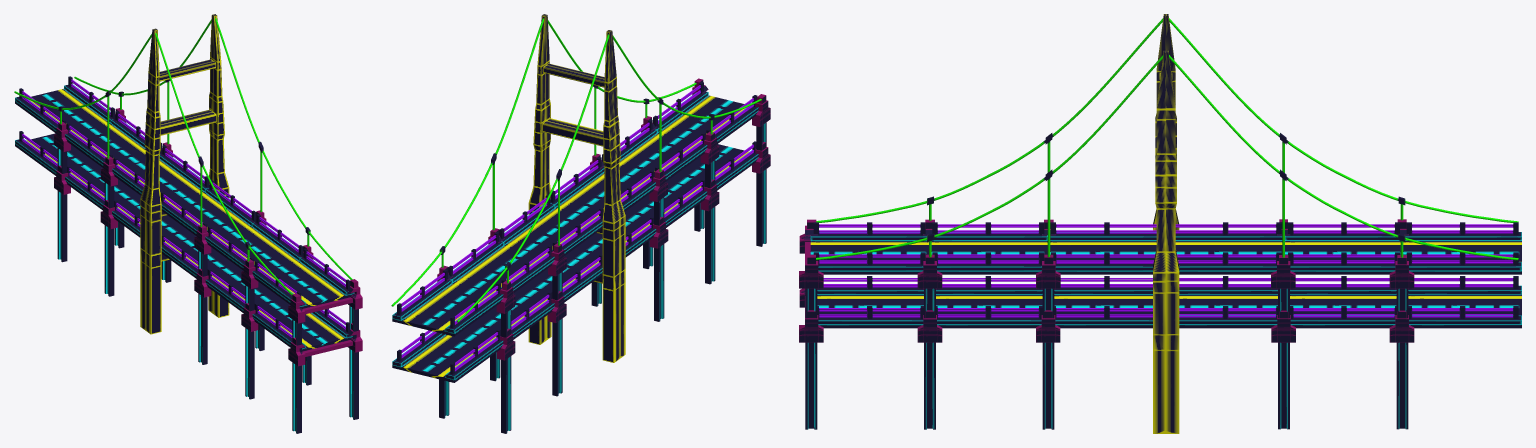
The model's file is Bridge (1).fbx.
3 renders of one model, left to right at view 1: azimuth 30°, elevation 25°; view 2: azimuth 150°, elevation 25°; view 3: azimuth 270°, elevation 25°, orthographic. The views are drawn at different scales.
Parts seen in each view (by area): view 1: Bridge_Center, Bridge_Road5, Bridge_Road, Bridge_Road4, Bridge_Road3, Bridge_Road1, Bridge_Road11, Bridge_Road2, Bridge_Road6, Bridge_Road10, Bridge_Road9, Bridge_Road7 (+27 smaller); view 2: Bridge_Center, Bridge_Road, Bridge_Road6, Bridge_Road1, Bridge_Road5, Bridge_Road2, Bridge_Road4, Bridge_Road3, Bridge_Road11, Bridge_Road7, Bridge_Road8, Bridge_Road10 (+36 smaller); view 3: Bridge_Center, Bridge_Road, Bridge_Road6, Bridge_Road1, Bridge_Road4, Bridge_Road11, Bridge_Road10, Bridge_Road5, Bridge_Road2, Bridge_Road7, Bridge_Road3, Bridge_Road9 (+40 smaller).
Boxes of the visible parts, left/top/right/bottom form: Bridge_Center: left=140, top=14, right=229, bottom=334; Bridge_Road5: left=252, top=257, right=354, bottom=308; Bridge_Road: left=15, top=84, right=112, bottom=133; Bridge_Road4: left=205, top=223, right=301, bottom=270; Bridge_Road3: left=161, top=188, right=254, bottom=235; Bridge_Road1: left=65, top=119, right=145, bottom=167; Bridge_Road11: left=252, top=306, right=352, bottom=351; Bridge_Road2: left=112, top=154, right=209, bottom=200; Bridge_Road6: left=15, top=133, right=102, bottom=175; Bridge_Road10: left=205, top=272, right=290, bottom=312; Bridge_Road9: left=161, top=237, right=243, bottom=278; Bridge_Road7: left=65, top=168, right=140, bottom=210; Bridge_Center: left=528, top=14, right=625, bottom=362; Bridge_Road: left=392, top=279, right=503, bottom=336; Bridge_Road6: left=392, top=331, right=503, bottom=382; Bridge_Road1: left=450, top=241, right=554, bottom=293; Bridge_Road5: left=655, top=91, right=758, bottom=143; Bridge_Road2: left=501, top=203, right=602, bottom=255; Bridge_Road4: left=604, top=129, right=707, bottom=181; Bridge_Road3: left=550, top=166, right=655, bottom=217; Bridge_Road11: left=666, top=144, right=758, bottom=190; Bridge_Road7: left=462, top=294, right=554, bottom=339; Bridge_Road8: left=513, top=257, right=602, bottom=302; Bridge_Road10: left=624, top=181, right=707, bottom=227; Bridge_Center: left=1153, top=14, right=1179, bottom=433; Bridge_Road: left=1403, top=232, right=1521, bottom=274; Bridge_Road6: left=1408, top=285, right=1521, bottom=328; Bridge_Road1: left=1285, top=233, right=1400, bottom=274; Bridge_Road4: left=931, top=232, right=1047, bottom=274; Bridge_Road11: left=817, top=287, right=923, bottom=328; Bridge_Road10: left=936, top=287, right=1042, bottom=328; Bridge_Road5: left=810, top=232, right=928, bottom=274; Bridge_Road2: left=1175, top=233, right=1282, bottom=274; Bridge_Road7: left=1290, top=287, right=1396, bottom=328; Bridge_Road3: left=1050, top=232, right=1156, bottom=274; Bridge_Road9: left=1054, top=287, right=1152, bottom=328.
Bounding box in the file's own units: 19.26 × 70.22 × 122.
Materials: 1 (1 with a texture image).
